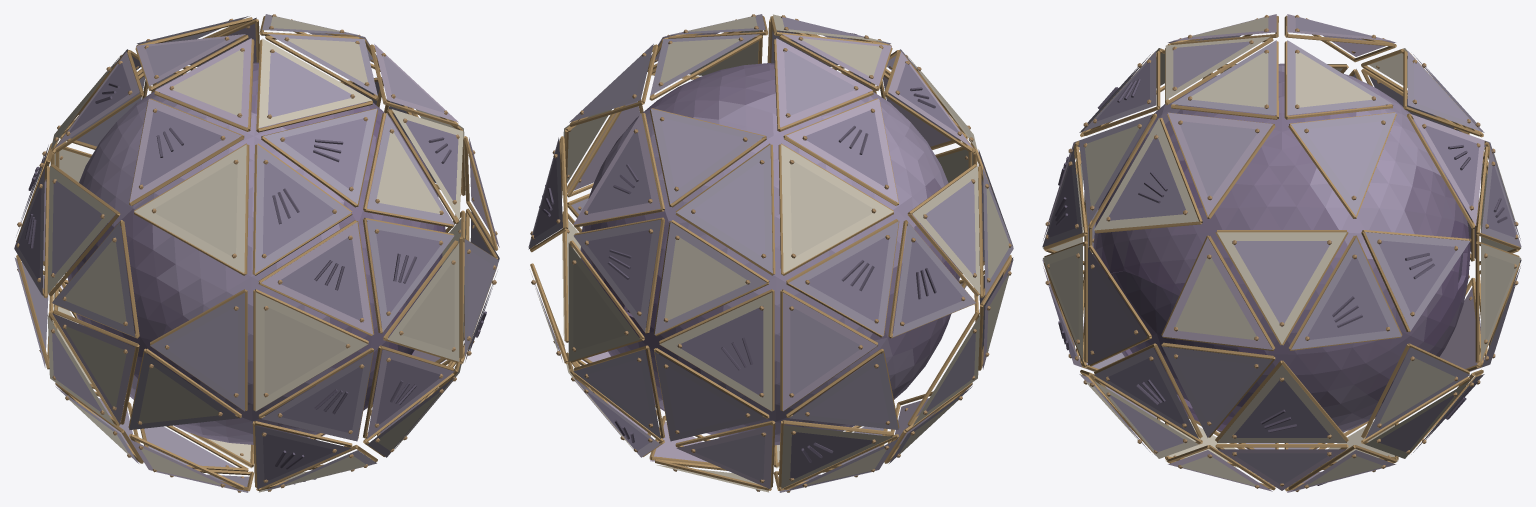
Rendered from earth.glb.
The picture shows the model from 3 angles, left to right: view 1: azimuth 30°, elevation 25°; view 2: azimuth 150°, elevation 25°; view 3: azimuth 270°, elevation 25°; orthographic projection.
Parts seen in each view (by area): view 1: Structures • modeled surfaces, Terrain • modeled surfaces; view 2: Structures • modeled surfaces, Terrain • modeled surfaces; view 3: Structures • modeled surfaces, Terrain • modeled surfaces.
Boxes of the visible parts, left/top/right/bottom form: Structures • modeled surfaces: left=14, top=14, right=499, bottom=492; Terrain • modeled surfaces: left=67, top=62, right=445, bottom=444; Structures • modeled surfaces: left=528, top=14, right=1013, bottom=492; Terrain • modeled surfaces: left=580, top=63, right=960, bottom=445; Structures • modeled surfaces: left=1042, top=14, right=1521, bottom=492; Terrain • modeled surfaces: left=1093, top=63, right=1470, bottom=431.
Bounding box in the file's own units: 2.16 × 2.16 × 2.16.
